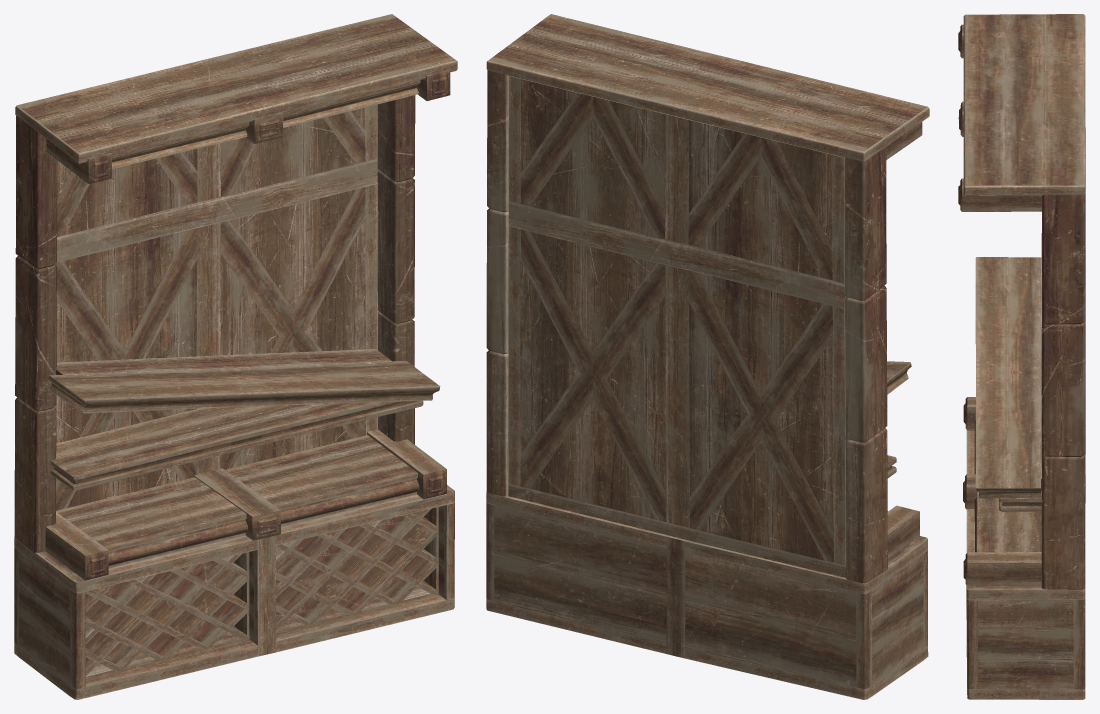
3 views of the same model, side by side, from view 1: azimuth 30°, elevation 25°; view 2: azimuth 150°, elevation 25°; view 3: azimuth 270°, elevation 25° (orthographic). The views are drawn at different scales.
Visible parts, largest first — view 1: SM_DR_Bookshelf_07_LOD0; view 2: SM_DR_Bookshelf_07_LOD0; view 3: SM_DR_Bookshelf_07_LOD0.
Part boxes in pixels (x1,y1,x2,y2): SM_DR_Bookshelf_07_LOD0: (14,14,457,699); SM_DR_Bookshelf_07_LOD0: (486,14,929,699); SM_DR_Bookshelf_07_LOD0: (958,14,1085,699).
Bounding box in the file's own units: 2.43 × 3.35 × 0.7528.
Materials: 1 (1 with a texture image).
